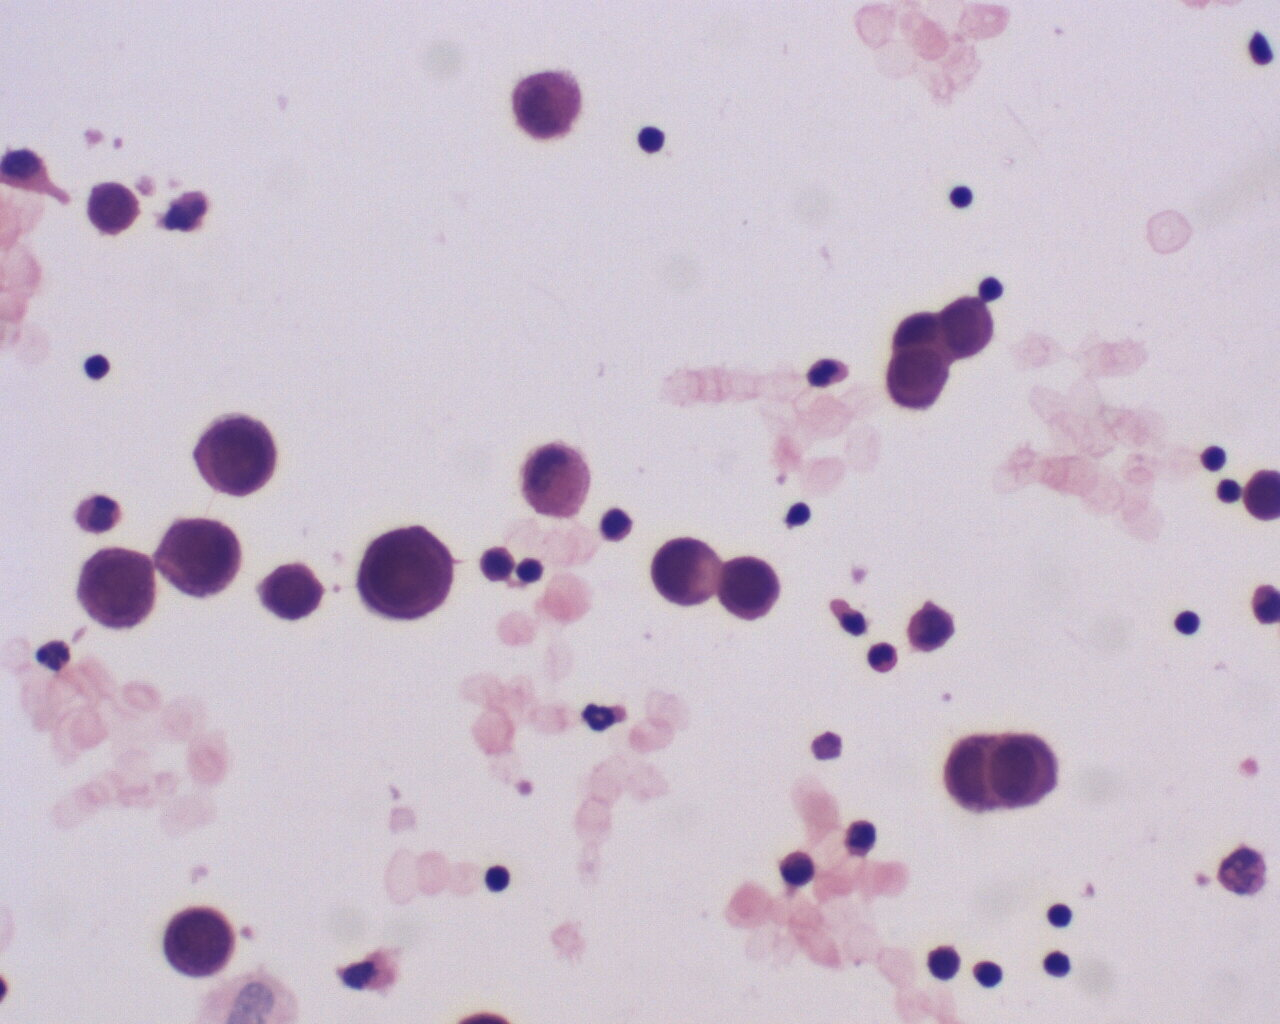ab: (357, 519, 456, 625), (186, 413, 281, 504), (157, 514, 250, 603), (75, 544, 163, 636), (161, 904, 248, 980), (990, 726, 1058, 806), (255, 558, 326, 620), (887, 345, 952, 412), (719, 551, 778, 621), (82, 179, 145, 237)
lymph: (970, 954, 1016, 993), (945, 174, 985, 217), (629, 121, 672, 157), (80, 347, 118, 387), (1043, 898, 1080, 934), (1171, 604, 1209, 639), (1196, 439, 1231, 476)
neutro: (34, 635, 73, 676), (583, 697, 624, 736), (866, 638, 900, 675)
